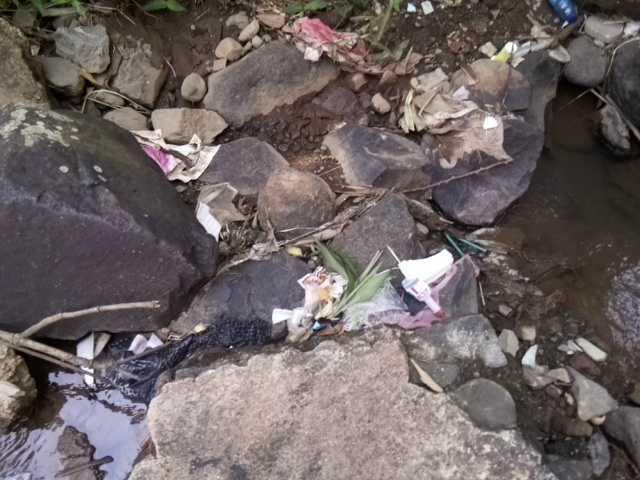Sampah_Plastik: (281, 253, 458, 336), (278, 14, 387, 74), (130, 123, 216, 178)
Sampah_Styrofoam: (399, 243, 455, 290), (194, 201, 227, 240), (73, 333, 107, 360), (492, 41, 518, 62)
